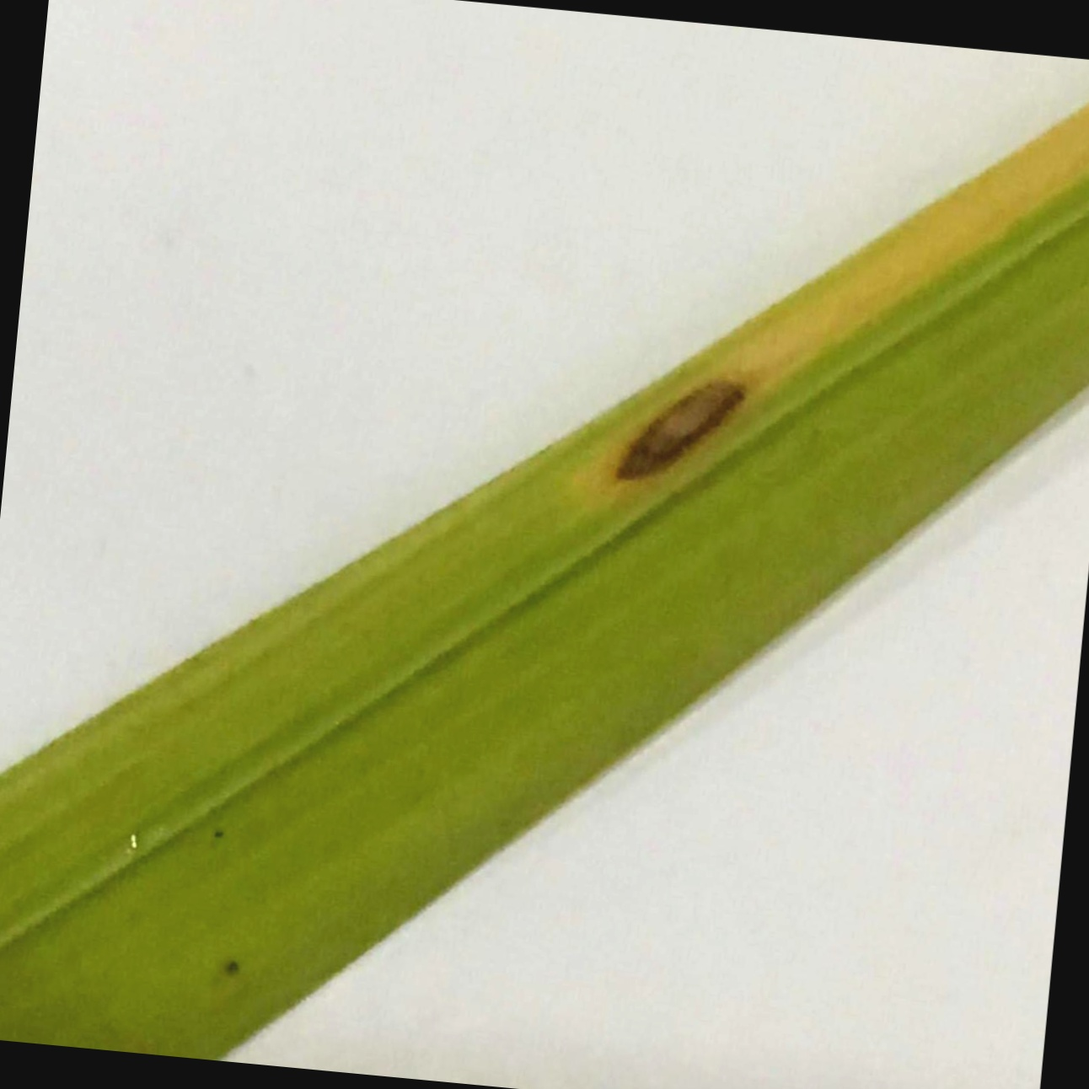Brown_Spot: (594, 341, 757, 517)
